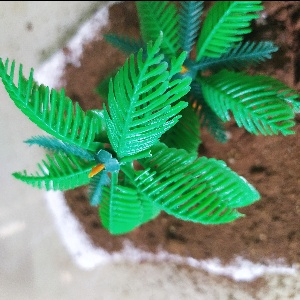plant: (5, 1, 300, 231)
